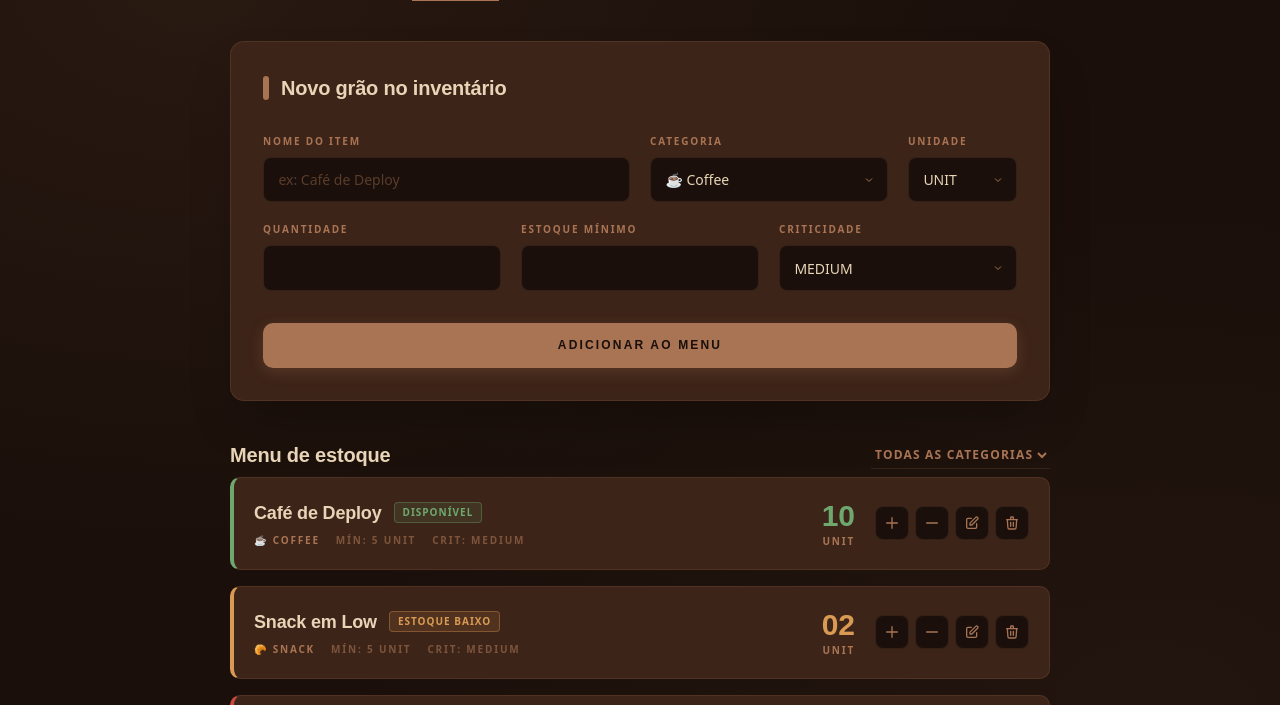
PipelineCafePage › formulário de item › exibe erro de validação ao enviar formulário sem nome
The width and height of the screenshot is (1280, 705).
(page scrolled)
Click the button "ADICIONAR AO MENU" at (640, 345), box left=263, top=323, right=1017, bottom=368
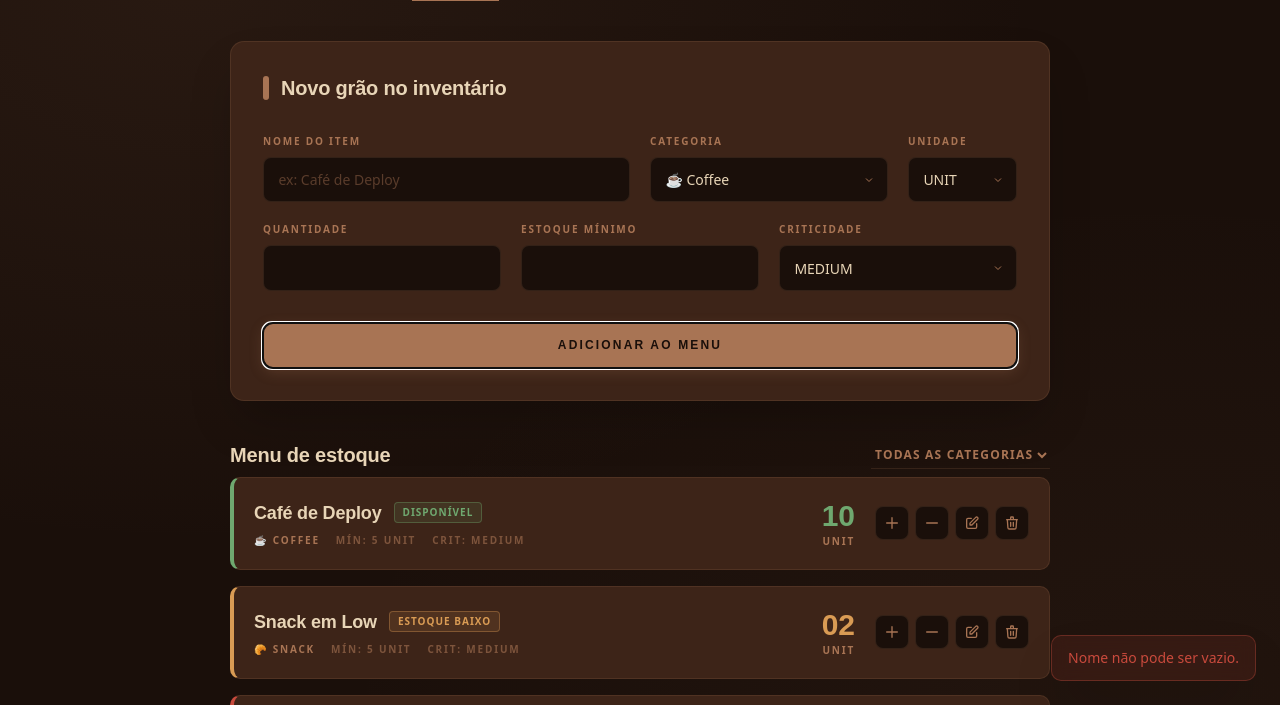
Result: the text "Nome não pode ser vazio." is shown at left=1051, top=635, right=1256, bottom=681
